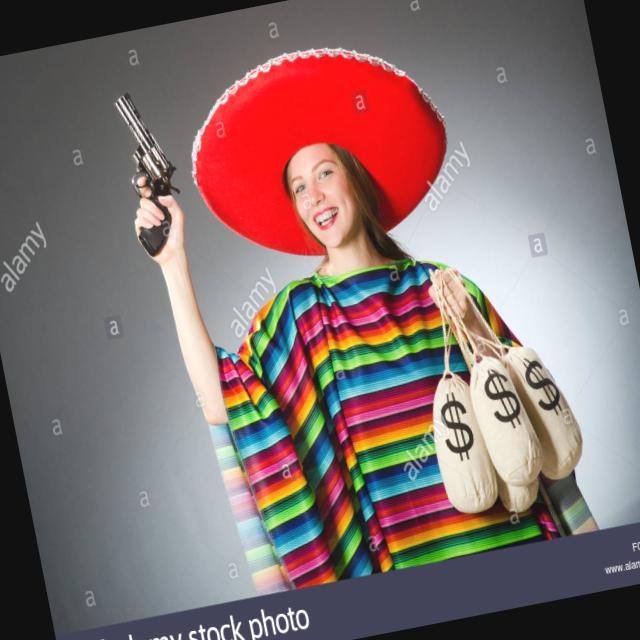handgun: (92, 76, 192, 262)
